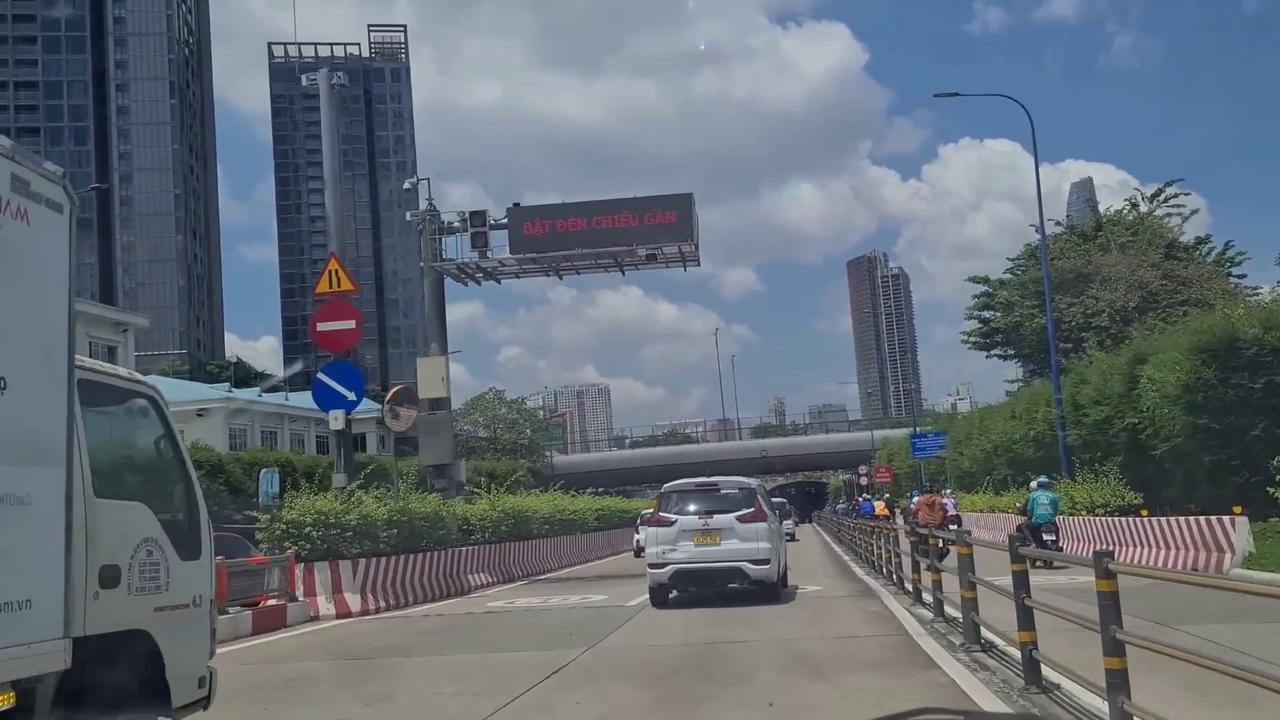Cấm đi ngược chiều: (307, 297, 367, 355)
Hướng phải đi vòng sang phải: (309, 358, 368, 417)
Đuờng hẹp: (306, 250, 362, 296)
